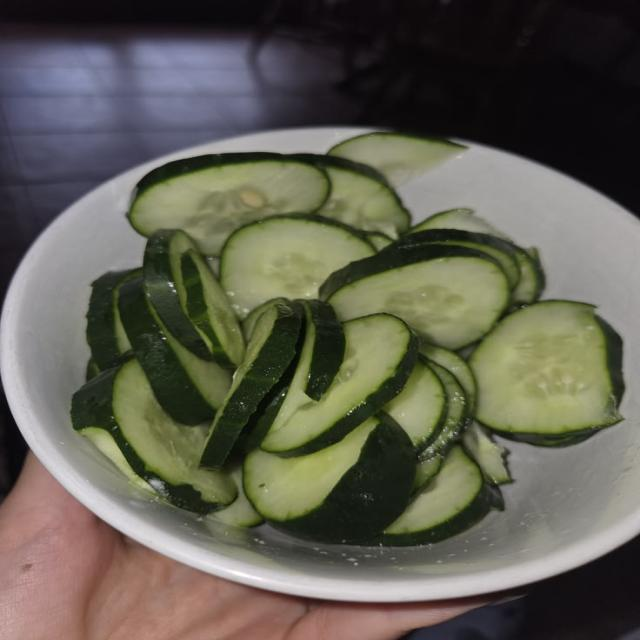cucumber sliced: (72, 359, 236, 512), (261, 314, 418, 454), (245, 415, 415, 543), (469, 301, 623, 442), (128, 153, 330, 255), (320, 244, 510, 349), (200, 304, 302, 468), (119, 279, 231, 424), (220, 216, 374, 317), (377, 445, 500, 546), (295, 154, 410, 237), (143, 229, 212, 359), (181, 249, 245, 368), (328, 132, 466, 186), (393, 229, 519, 288), (384, 360, 446, 450), (87, 270, 139, 375), (420, 356, 468, 460), (299, 300, 346, 400), (420, 342, 476, 414), (206, 462, 263, 527), (461, 421, 512, 484), (409, 208, 508, 240), (241, 297, 291, 341), (512, 246, 545, 305), (367, 232, 393, 250)
